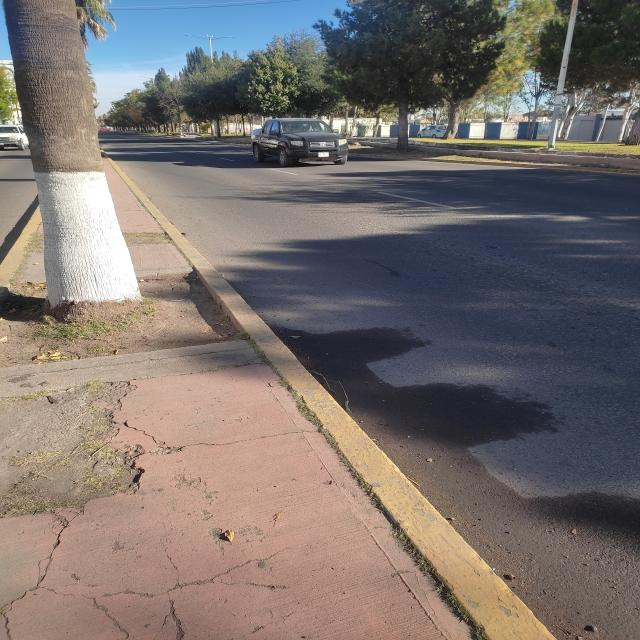Auto: (242, 115, 364, 178), (0, 121, 32, 156), (414, 120, 456, 141)
